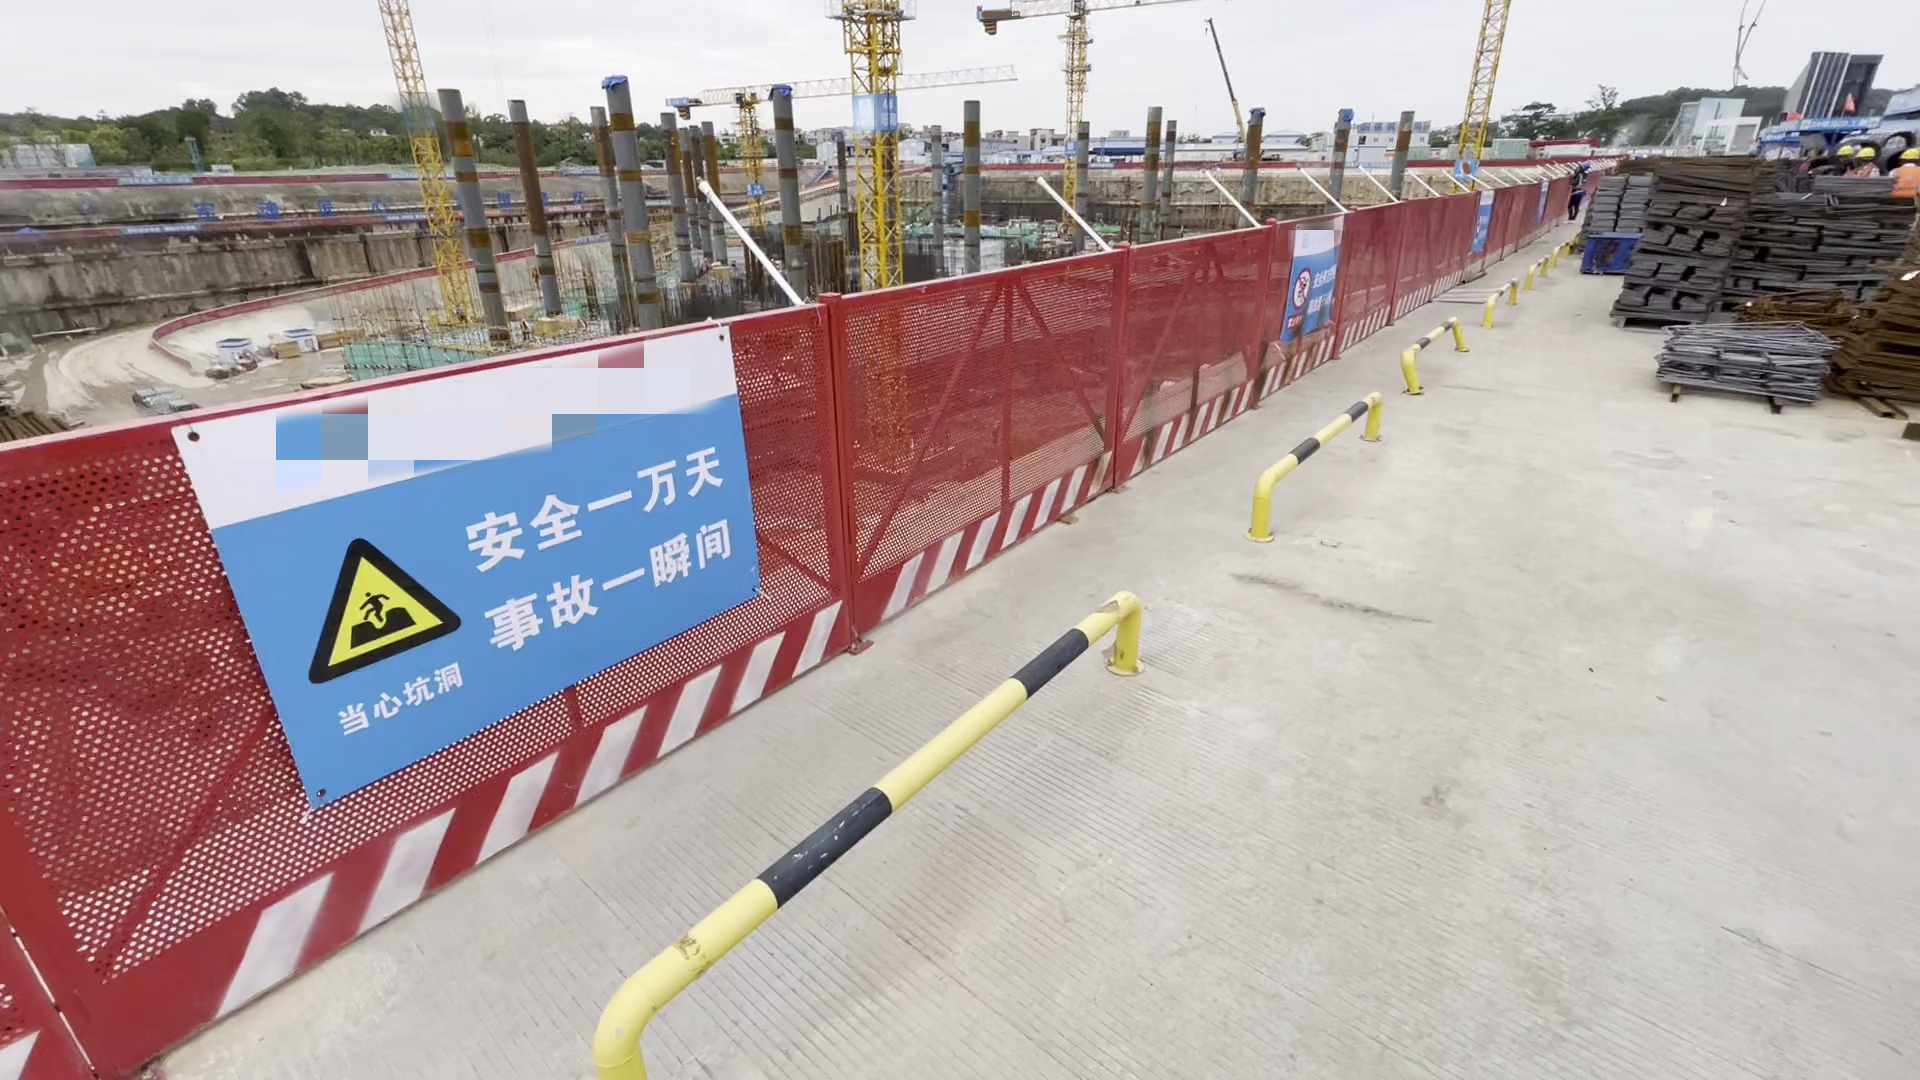fence: (1, 263, 1273, 879), (270, 274, 397, 309), (207, 174, 387, 185), (209, 219, 386, 229)
helmet: (1856, 149, 1876, 163), (1835, 145, 1851, 164), (1899, 148, 1919, 161), (1580, 159, 1592, 171)
person: (1833, 138, 1883, 198), (1563, 158, 1592, 231), (1890, 144, 1920, 208)
slogan: (297, 436, 775, 612), (190, 196, 397, 217), (1283, 249, 1345, 309), (118, 176, 200, 185), (879, 93, 899, 130), (124, 226, 204, 234)
vest: (1892, 164, 1920, 205), (1572, 171, 1589, 197)
